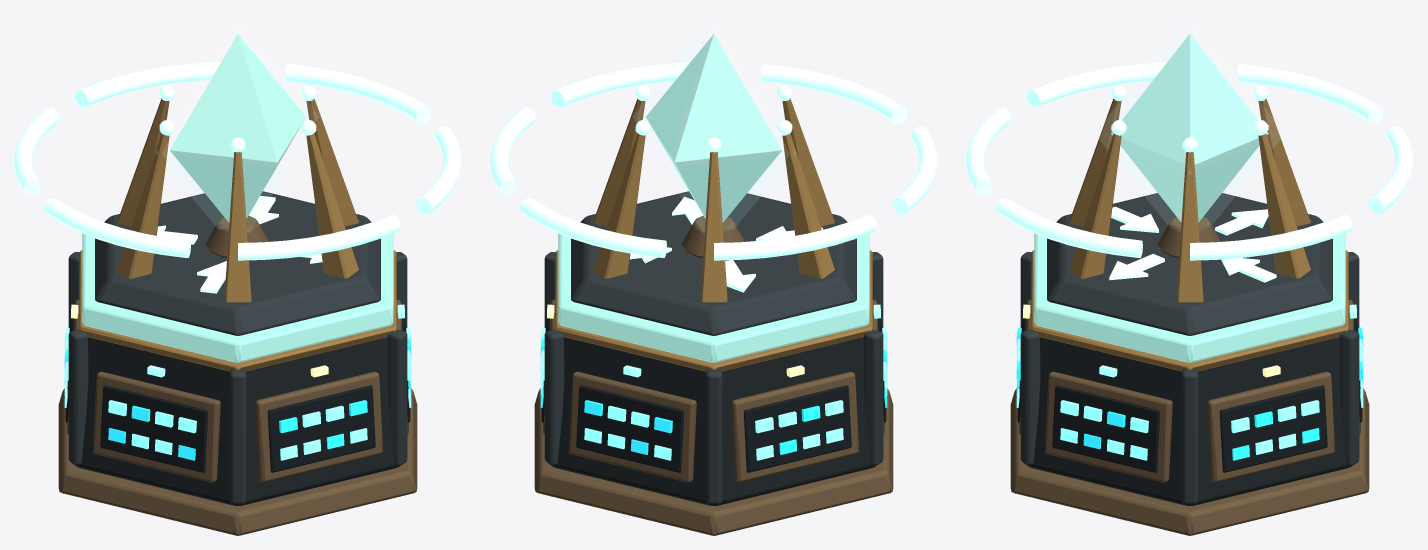
Rendered from router.glb.
3 views of the same model, side by side, from view 1: azimuth 30°, elevation 25°; view 2: azimuth 150°, elevation 25°; view 3: azimuth 270°, elevation 25° (orthographic).
Visible parts, largest first — view 1: body_metal_graphite, body_metal_brass, body_metal_dark, body_metal_brass_bright, halo, crystal, body_glass_smoke, body_role_luminous, body_glow_teal, body_role_glow, body_glow_teal_deep; view 2: body_metal_graphite, body_metal_brass, body_metal_dark, body_metal_brass_bright, halo, crystal, body_glass_smoke, body_role_luminous, body_glow_teal, body_role_glow, body_glow_teal_deep; view 3: body_metal_graphite, body_metal_brass, body_metal_dark, body_metal_brass_bright, halo, crystal, body_glass_smoke, body_role_luminous, body_role_glow, body_glow_teal, body_glow_teal_deep.
Part boxes in pixels (<box>): body_metal_graphite: <box>68,191,407,503</box>; body_metal_brass: <box>58,215,417,535</box>; body_metal_dark: <box>75,337,400,505</box>; body_metal_brass_bright: <box>79,98,396,371</box>; halo: <box>14,62,461,260</box>; crystal: <box>170,34,305,222</box>; body_glass_smoke: <box>65,318,410,472</box>; body_role_luminous: <box>82,234,393,362</box>; body_glow_teal: <box>64,327,411,460</box>; body_role_glow: <box>156,85,322,293</box>; body_glow_teal_deep: <box>64,339,411,460</box>; body_metal_graphite: <box>544,191,883,503</box>; body_metal_brass: <box>534,215,893,535</box>; body_metal_dark: <box>551,337,876,505</box>; body_metal_brass_bright: <box>555,98,872,371</box>; halo: <box>490,62,937,260</box>; crystal: <box>646,34,781,222</box>; body_glass_smoke: <box>541,318,886,472</box>; body_role_luminous: <box>558,234,869,362</box>; body_glow_teal: <box>540,327,887,460</box>; body_role_glow: <box>630,85,823,292</box>; body_glow_teal_deep: <box>540,339,887,454</box>; body_metal_graphite: <box>1020,193,1359,503</box>; body_metal_brass: <box>1010,217,1369,535</box>; body_metal_dark: <box>1027,337,1352,505</box>; body_metal_brass_bright: <box>1031,98,1348,371</box>; halo: <box>966,62,1413,260</box>; crystal: <box>1111,34,1268,221</box>; body_glass_smoke: <box>1017,318,1362,472</box>; body_role_luminous: <box>1034,234,1345,362</box>; body_role_glow: <box>1109,85,1276,282</box>; body_glow_teal: <box>1016,339,1363,460</box>; body_glow_teal_deep: <box>1016,327,1363,460</box>.
Size of the model in its own units: 1.34 by 1.43 by 1.33.
